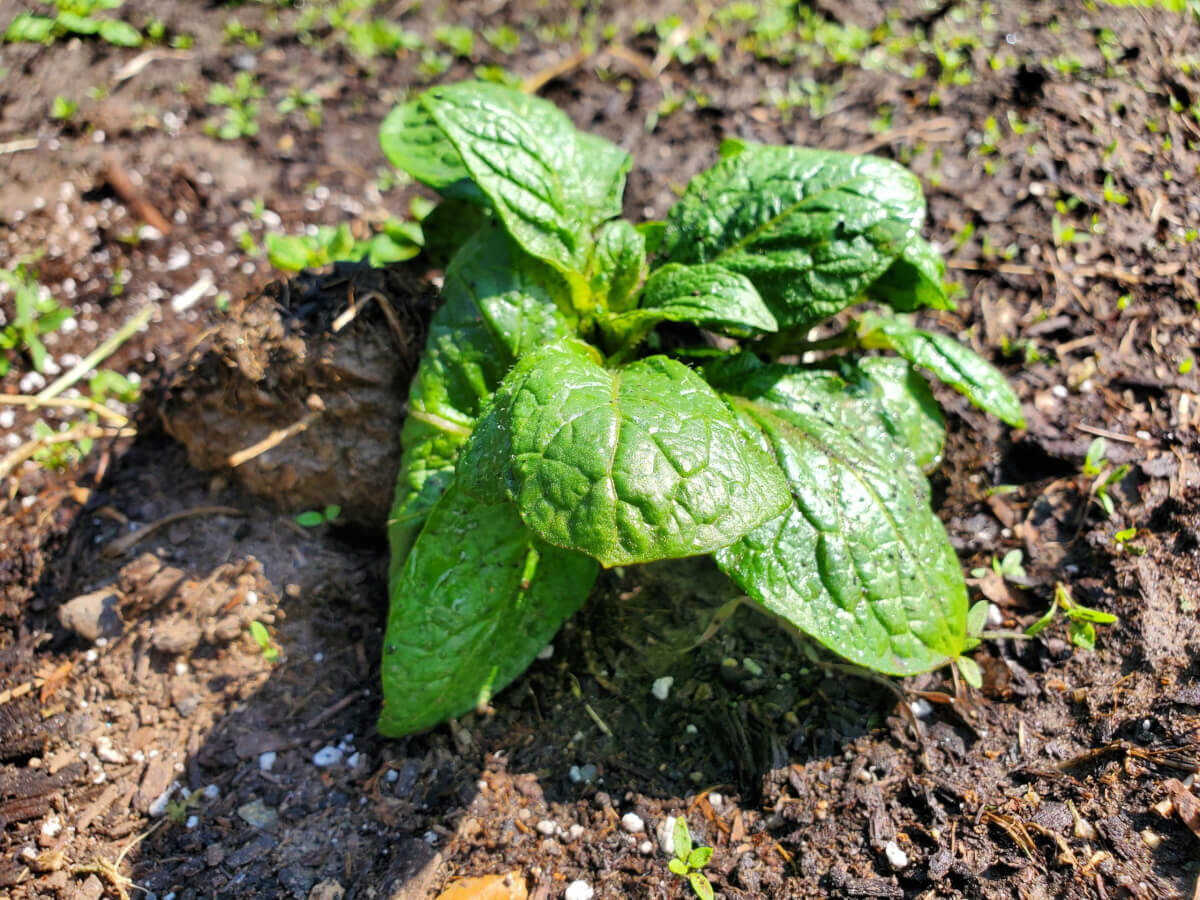potato_plant: (357, 74, 1029, 747)
